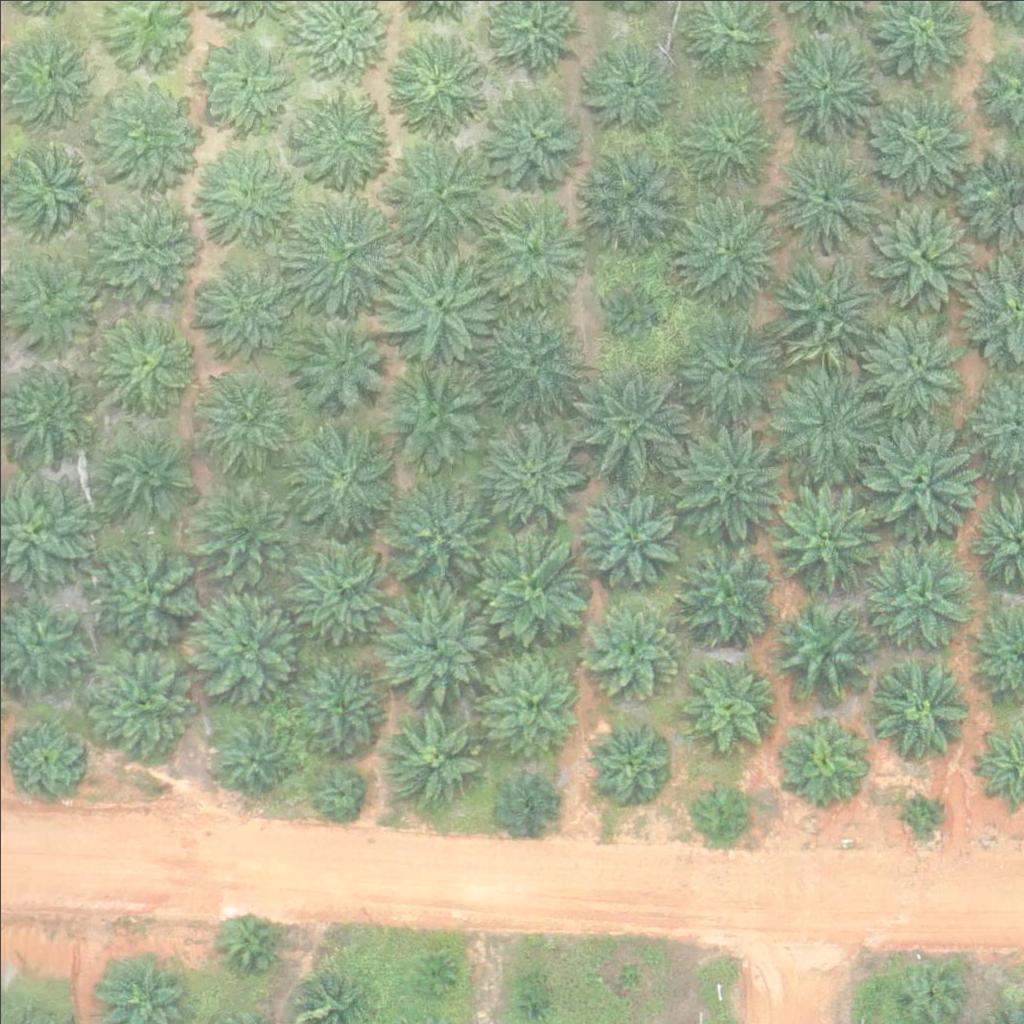Kelapa_Sawit: (859, 413, 984, 539), (766, 356, 891, 482), (670, 414, 795, 540), (565, 355, 690, 481), (464, 524, 589, 650), (468, 295, 593, 421), (381, 475, 506, 601), (371, 244, 496, 370), (276, 413, 401, 539), (281, 188, 406, 314), (76, 640, 201, 766), (88, 529, 213, 655), (83, 182, 208, 308), (375, 130, 500, 256), (280, 522, 405, 647), (768, 477, 881, 591), (668, 536, 781, 650), (569, 141, 682, 255), (676, 310, 789, 423), (671, 193, 784, 306), (379, 588, 492, 701), (378, 356, 491, 469), (283, 300, 396, 413), (184, 246, 297, 359), (92, 71, 205, 184), (196, 138, 309, 251), (763, 28, 876, 141), (472, 192, 584, 306), (863, 543, 975, 656), (860, 307, 972, 420), (770, 258, 882, 371), (569, 476, 681, 589), (478, 419, 590, 532), (191, 585, 303, 698), (190, 473, 302, 586), (673, 79, 785, 192), (768, 145, 880, 258), (872, 201, 972, 302), (585, 595, 685, 696), (481, 654, 581, 755), (381, 706, 481, 807), (292, 652, 392, 753), (93, 418, 193, 519), (92, 317, 192, 418), (1, 140, 101, 241), (194, 30, 294, 131), (293, 86, 393, 187), (868, 87, 968, 188), (868, 661, 968, 761), (773, 603, 873, 703), (388, 29, 488, 129), (488, 85, 588, 185), (580, 30, 680, 130), (682, 663, 770, 751), (583, 714, 671, 802), (202, 375, 290, 463), (777, 709, 864, 797), (5, 721, 80, 797), (214, 719, 289, 794), (219, 907, 282, 970), (597, 272, 660, 335), (496, 769, 559, 832), (687, 776, 749, 839), (314, 765, 364, 815), (414, 956, 452, 994), (900, 793, 937, 831), (616, 962, 641, 987), (523, 994, 548, 1019)
